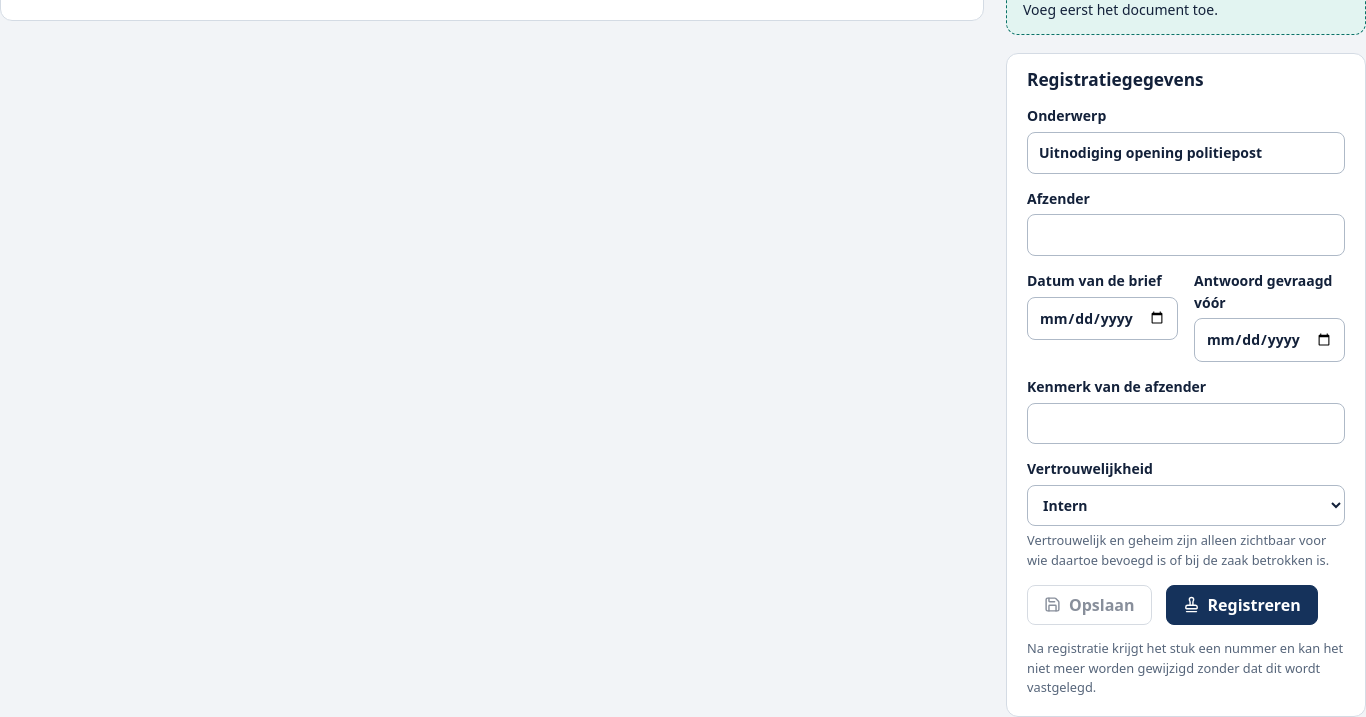
Scenario: Registering a draft letter › registers straight away when nothing resembles it
The image size is (1366, 717).
(page scrolled)
What coordinates should you click on to do the following:
click the button with test id "register"
I would click on:
 (1242, 605)
Its box is [1166,585,1318,625].
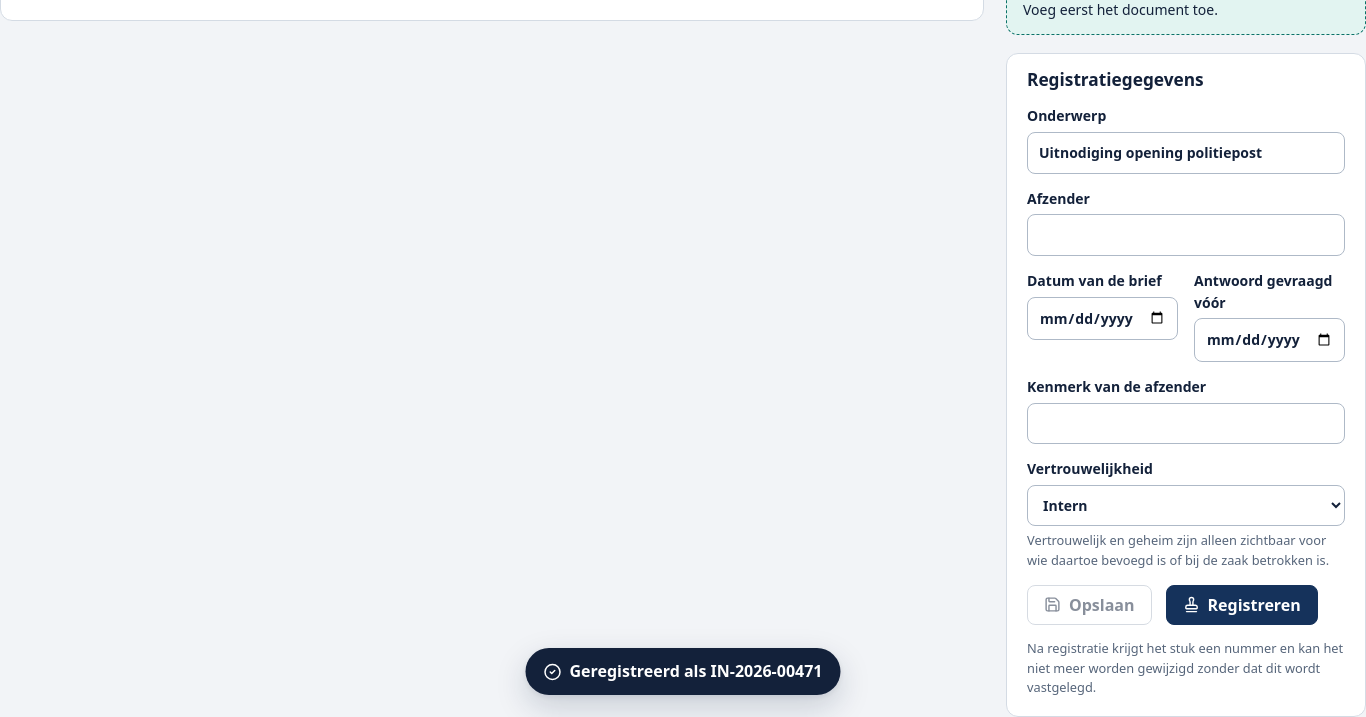
Result: the text "Geregistreerd als IN-2026-00471" is shown at [526,648,840,695]
